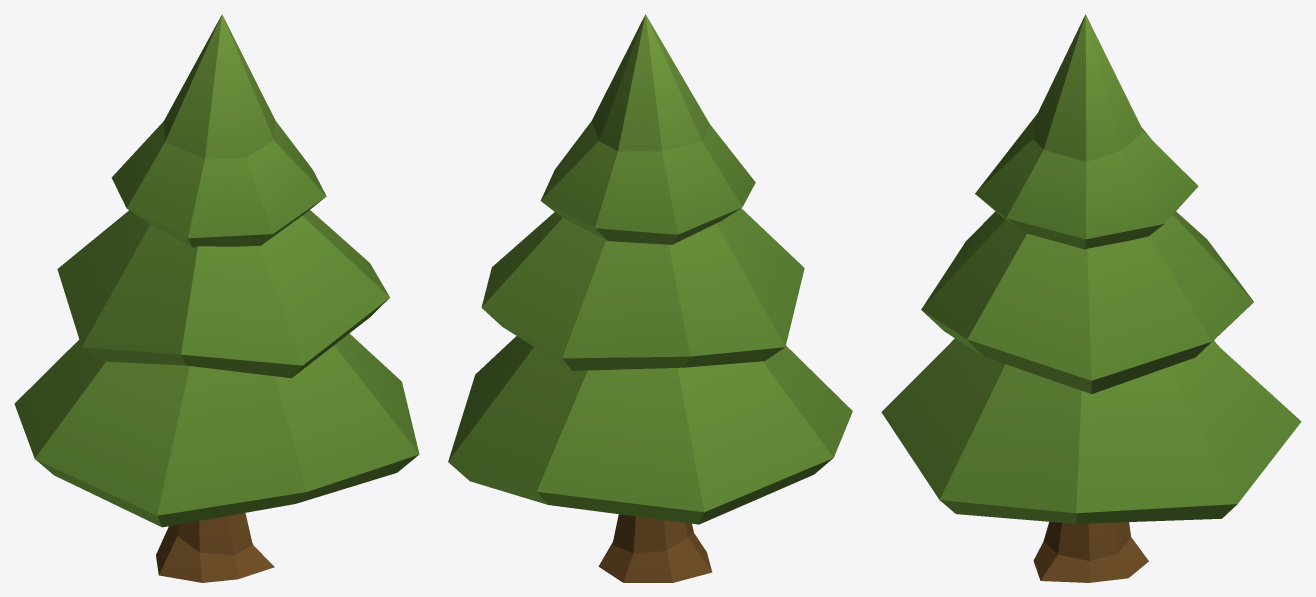
File: tree_2.glb
3 renders of one model, left to right at view 1: azimuth 30°, elevation 25°; view 2: azimuth 150°, elevation 25°; view 3: azimuth 270°, elevation 25°, orthographic.
Visible parts, largest first — view 1: Tree_Spruce_tiny_02; view 2: Tree_Spruce_tiny_02; view 3: Tree_Spruce_tiny_02.
Part boxes in pixels (x1,y1,x2,y2): Tree_Spruce_tiny_02: (14, 14, 419, 582); Tree_Spruce_tiny_02: (448, 14, 852, 582); Tree_Spruce_tiny_02: (881, 14, 1301, 582).
Bounding box in the file's own units: 7.67 × 10.98 × 7.58.
1 material, 1 textured.
